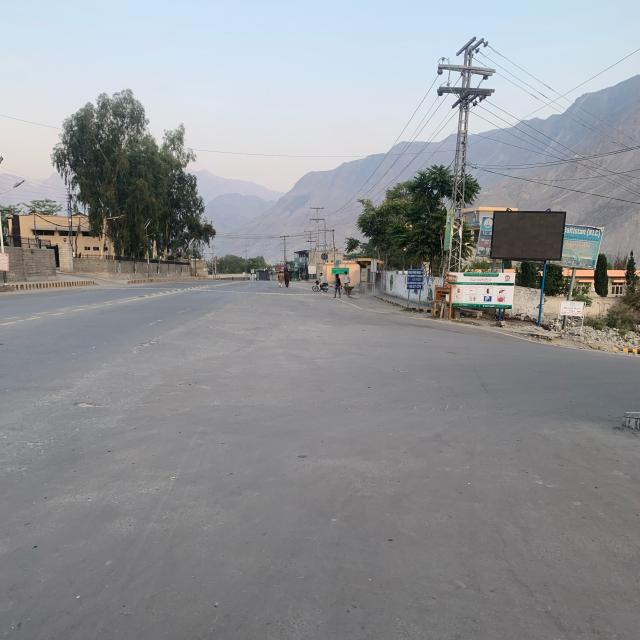Right-Turn: (240, 343, 618, 478)
straight: (96, 275, 254, 466)
